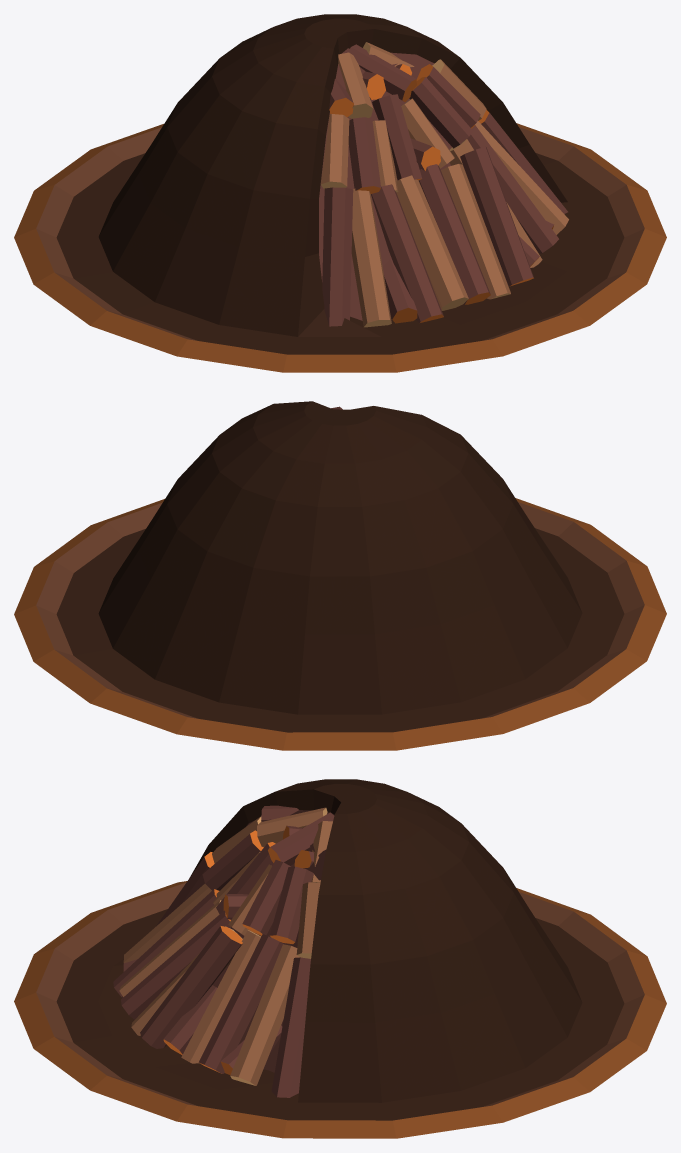
File: charcoal_ maker_hill.fbx
The picture shows the model from 3 angles, top to bottom: view 1: azimuth 30°, elevation 25°; view 2: azimuth 150°, elevation 25°; view 3: azimuth 270°, elevation 25°; orthographic projection.
Visible parts, largest first — view 1: Cylinder.038; view 2: Cylinder.038; view 3: Cylinder.038.
Boxes of the visible parts, <box> form: Cylinder.038: <box>14,14,666,372</box>; Cylinder.038: <box>14,401,666,750</box>; Cylinder.038: <box>14,779,666,1138</box>.
Size of the model in its own units: 296 by 110 by 300.
